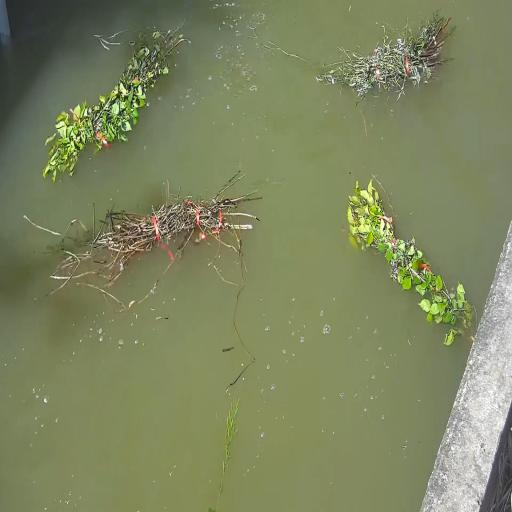twig: (51, 174, 260, 292), (43, 29, 188, 181), (347, 181, 471, 328), (317, 12, 452, 98)
